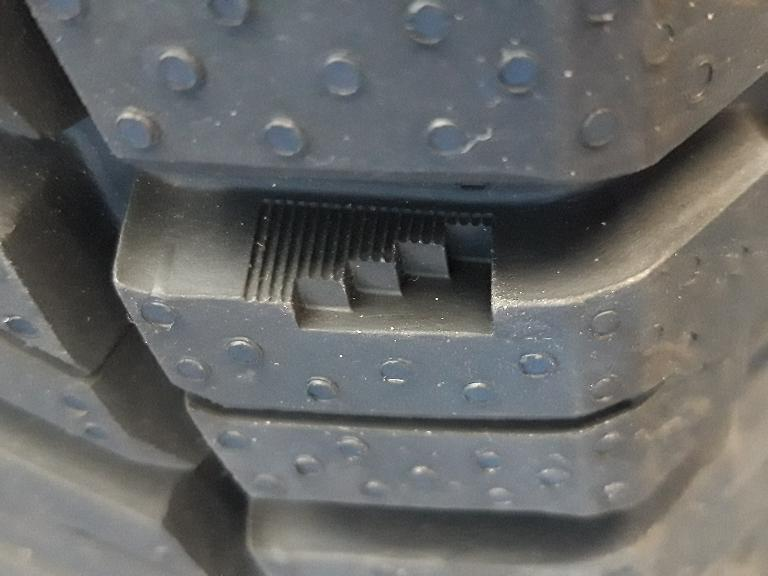temoin:100: (232, 185, 510, 352)
